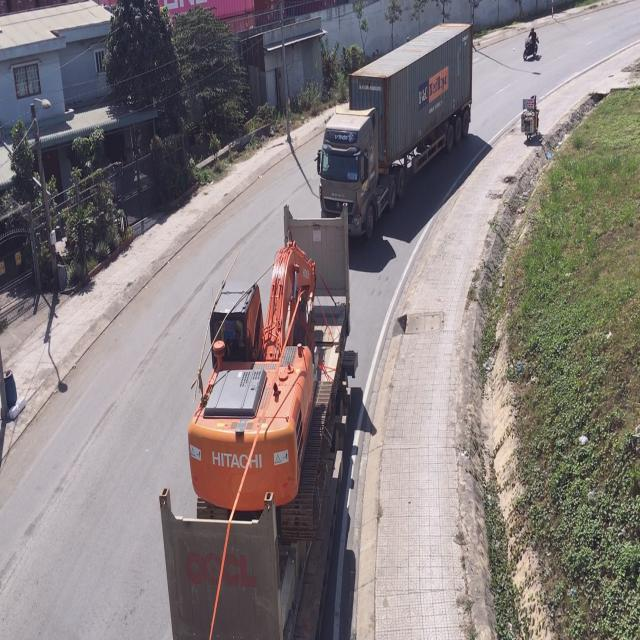motorbike: (521, 95, 540, 143), (523, 25, 540, 62)
truck: (161, 208, 349, 640), (318, 26, 474, 252)
